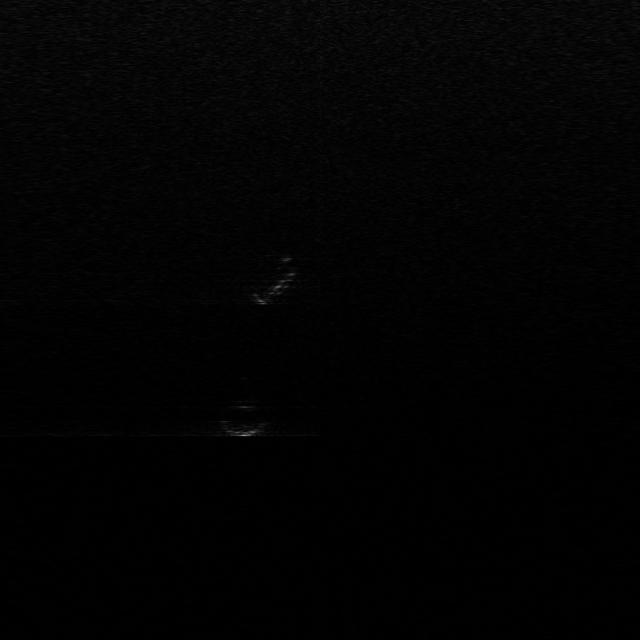ball: (214, 398, 276, 436)
tyre: (252, 263, 298, 307)
